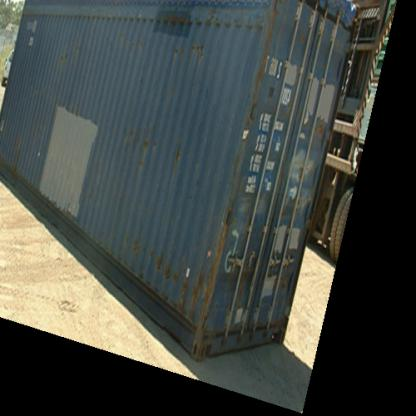Damage: (132, 235, 210, 320), (122, 124, 157, 168), (164, 34, 214, 60), (169, 141, 184, 165), (50, 49, 72, 62)
